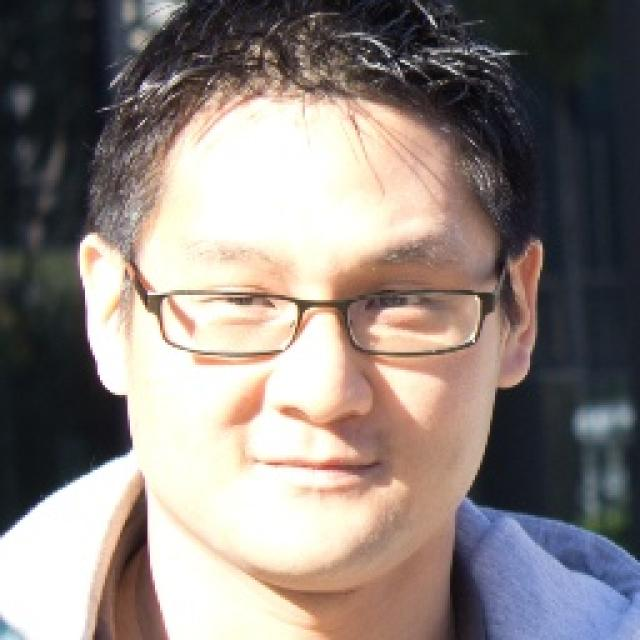earlobe: (75, 232, 131, 398), (496, 230, 546, 389)
